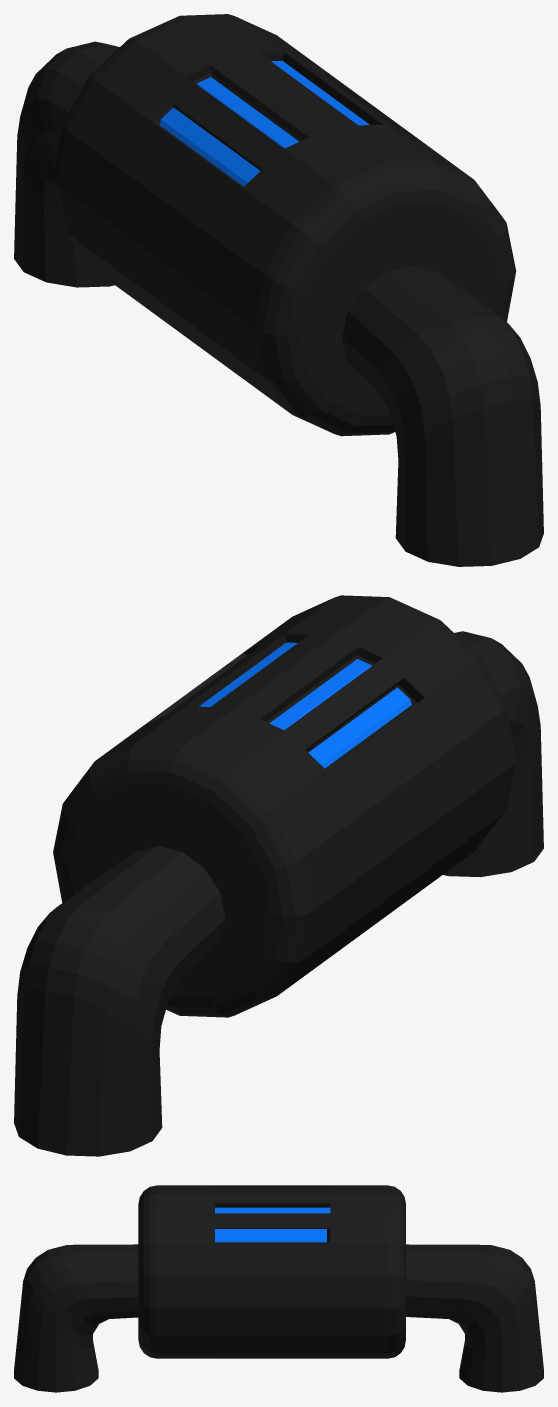
File: Engine.obj
The picture shows the model from 3 angles, top to bottom: view 1: azimuth 30°, elevation 25°; view 2: azimuth 150°, elevation 25°; view 3: azimuth 270°, elevation 25°; orthographic projection. The views are drawn at different scales.
Visible parts, largest first — view 1: Body, Pipe1, Pipe2, BlueStuff; view 2: Body, Pipe2, Pipe1, BlueStuff; view 3: Body, Pipe2, Pipe1, BlueStuff.
Boxes of the visible parts, <box> form: Body: <box>53,14,516,436</box>; Pipe1: <box>342,265,543,566</box>; Pipe2: <box>14,41,119,287</box>; BlueStuff: <box>159,60,369,186</box>; Body: <box>53,595,516,1017</box>; Pipe2: <box>14,846,225,1156</box>; Pipe1: <box>443,631,543,877</box>; BlueStuff: <box>199,642,411,768</box>; Body: <box>138,1185,405,1358</box>; Pipe2: <box>406,1244,543,1392</box>; Pipe1: <box>14,1244,138,1392</box>; BlueStuff: <box>215,1207,330,1242</box>.
Size of the model in its own units: 2 by 2.3 by 6.11.
